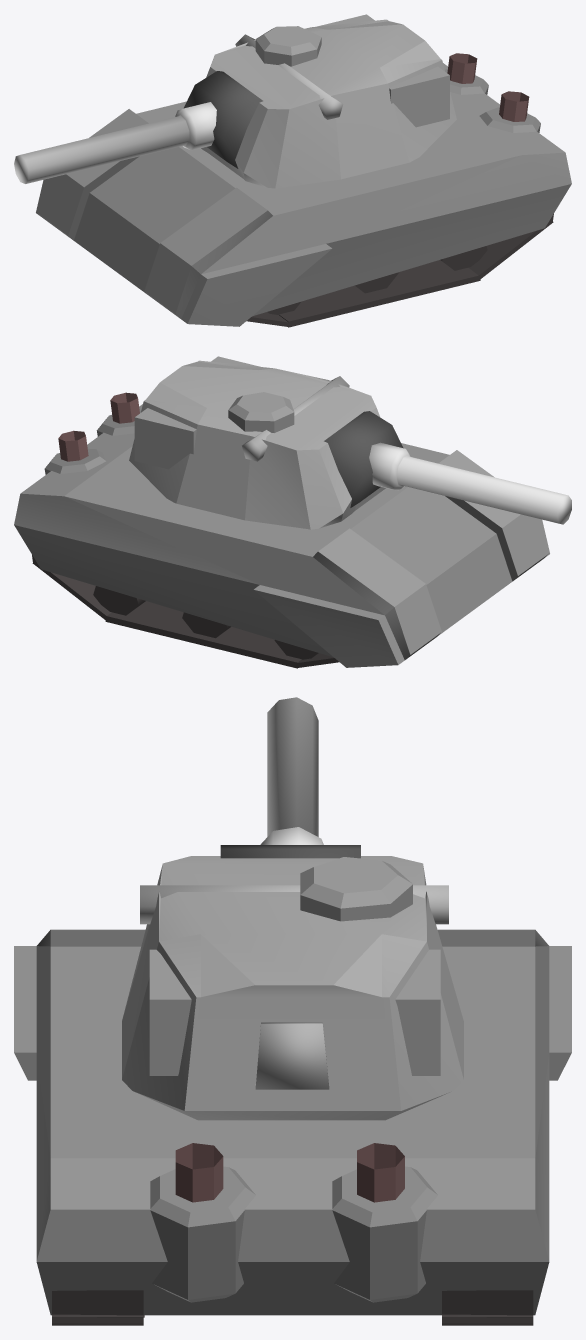
Rendered from TL_tashenratte_fixed.glb.
3 renders of one model, top to bottom at view 1: azimuth 30°, elevation 25°; view 2: azimuth 150°, elevation 25°; view 3: azimuth 270°, elevation 25°, orthographic. The views are drawn at different scales.
Visible parts, largest first — view 1: hull, turret, Cylinder; view 2: hull, turret, Cylinder; view 3: hull, turret, Cylinder, shelldoor.
Boxes of the visible parts, bbox=[...] form: hull: bbox=[36, 53, 571, 327]; turret: bbox=[183, 14, 456, 188]; Cylinder: bbox=[14, 102, 216, 183]; hull: bbox=[14, 392, 549, 668]; turret: bbox=[129, 356, 403, 529]; Cylinder: bbox=[369, 442, 571, 524]; hull: bbox=[14, 929, 571, 1325]; turret: bbox=[122, 845, 463, 1120]; Cylinder: bbox=[260, 697, 323, 844]; shelldoor: bbox=[255, 1022, 329, 1089].
Bounding box in the file's own units: 17.48 × 7.06 × 9.89.
3 materials, 1 textured.
